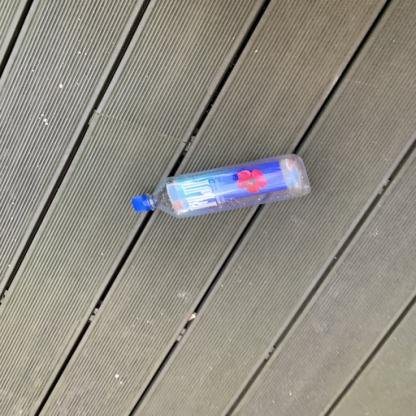trash: (132, 150, 318, 222)
